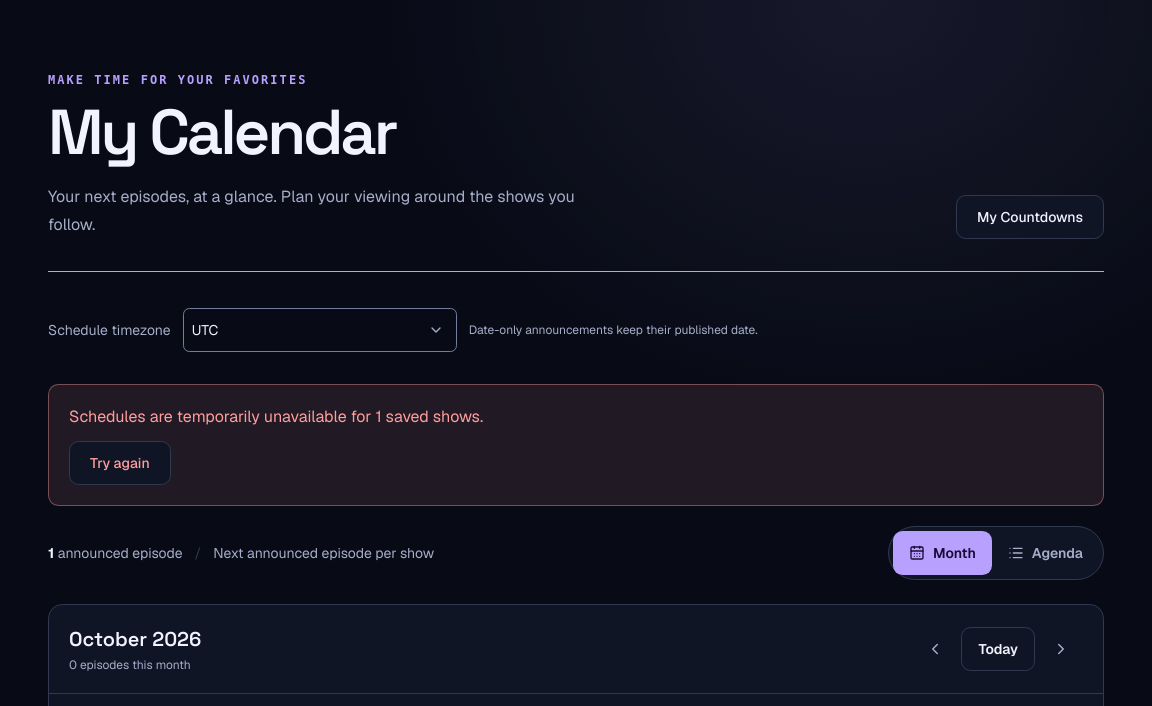
it: followed episode calendar › retains successful chunks and reports a later chunk outage
The width and height of the screenshot is (1152, 706).
Click the button "Agenda". click: (1045, 552)
box: [992,530,1099,574]
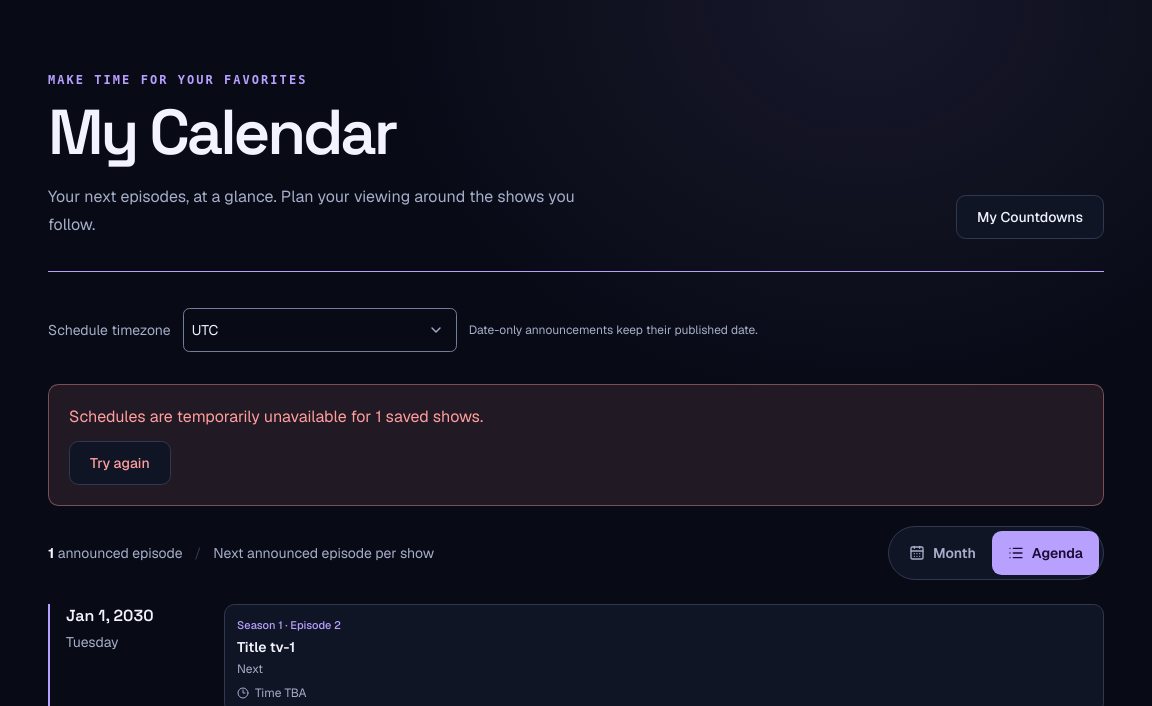
expect the message "Schedules are temporarily unavailable for 1 saved shows. Try again" is shown: met, box [48,384,1104,506]
expect the heading named "Title tv-1: Next" is shown: met, box [237,637,334,656]
